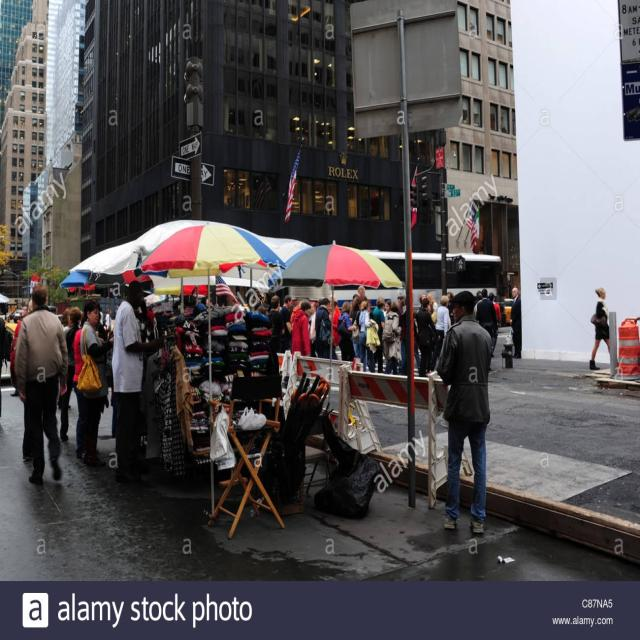body: (434, 288, 494, 536), (12, 279, 70, 488), (110, 278, 166, 488), (75, 300, 115, 468), (59, 305, 84, 442), (0, 295, 22, 424), (588, 286, 620, 372), (72, 310, 90, 460), (414, 297, 441, 378), (428, 294, 451, 375), (382, 301, 402, 376), (337, 300, 358, 363), (358, 298, 375, 374), (290, 300, 312, 358), (475, 288, 498, 343), (371, 296, 386, 374), (267, 295, 286, 354), (315, 296, 332, 359), (508, 286, 522, 360), (327, 300, 342, 361), (488, 292, 502, 356), (280, 295, 293, 355), (351, 299, 364, 358), (398, 315, 410, 378), (419, 290, 441, 318), (308, 302, 318, 359), (290, 296, 303, 330), (203, 296, 241, 307), (394, 287, 408, 315), (471, 284, 485, 312), (60, 307, 72, 332), (98, 305, 106, 340), (104, 308, 112, 339), (351, 286, 367, 300), (250, 302, 268, 314), (413, 311, 419, 345), (384, 300, 392, 324), (22, 300, 33, 317), (413, 346, 421, 368), (112, 300, 120, 316), (446, 290, 455, 304), (507, 279, 513, 298), (329, 293, 338, 303), (317, 296, 324, 306), (260, 296, 265, 303), (279, 298, 283, 306), (308, 310, 312, 317)
